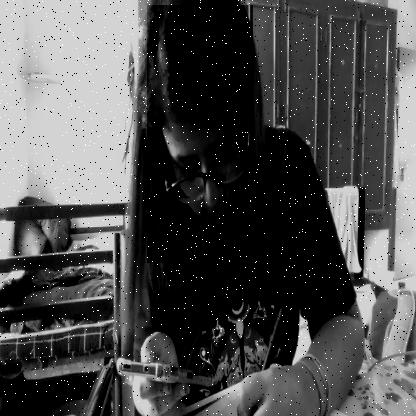Normal: (146, 6, 252, 264)
